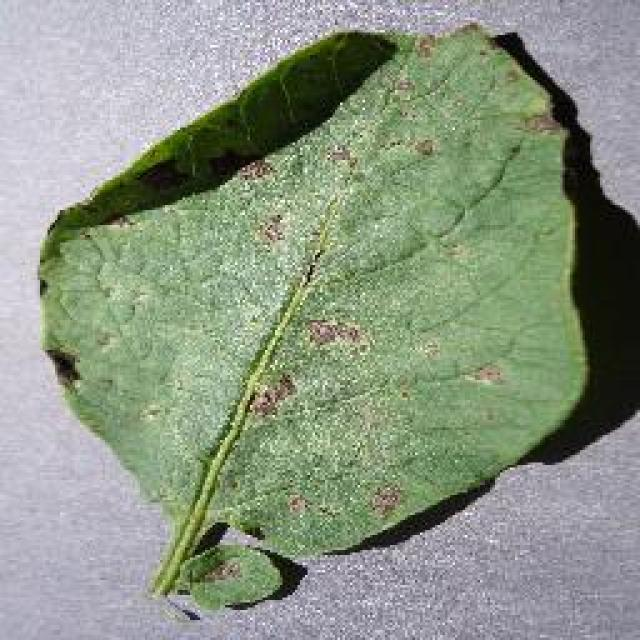Potato: (35, 20, 590, 612)
